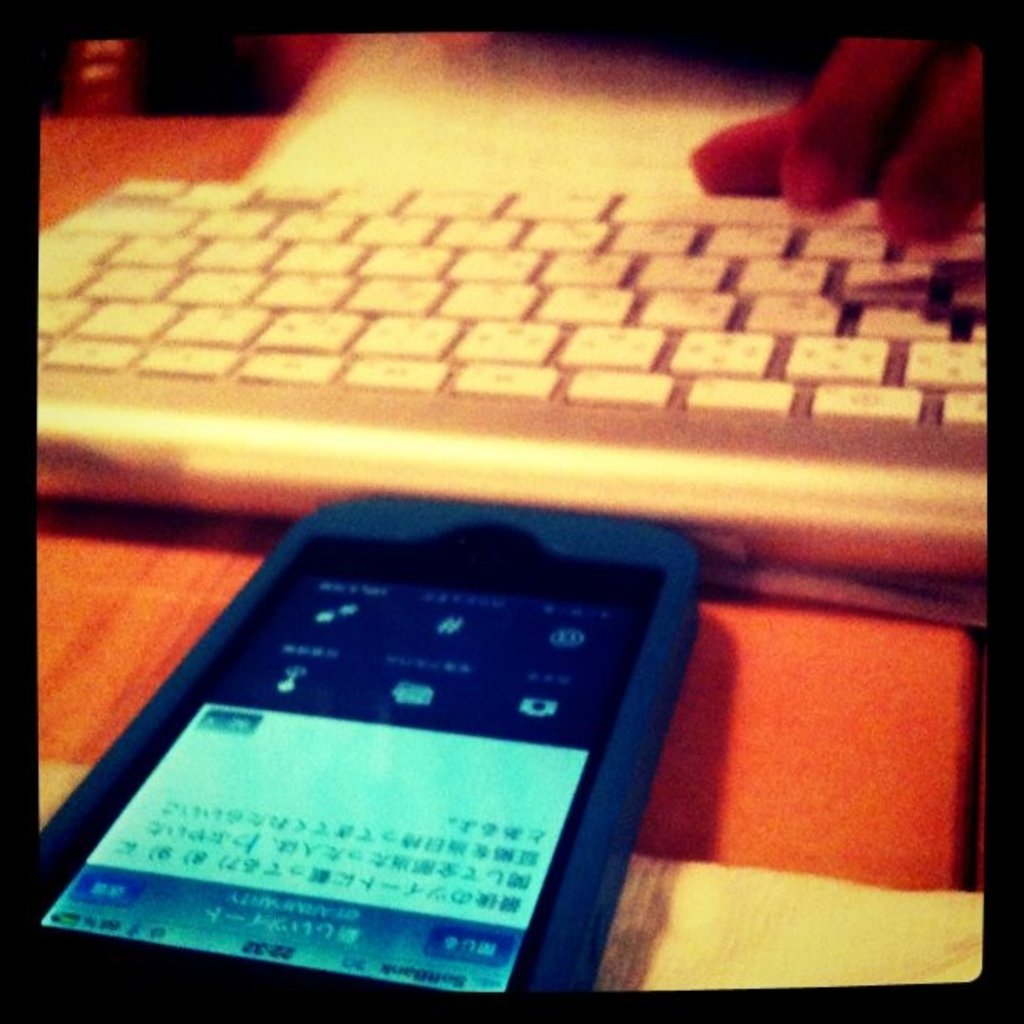Mobile-phone: (39, 487, 707, 1007)
